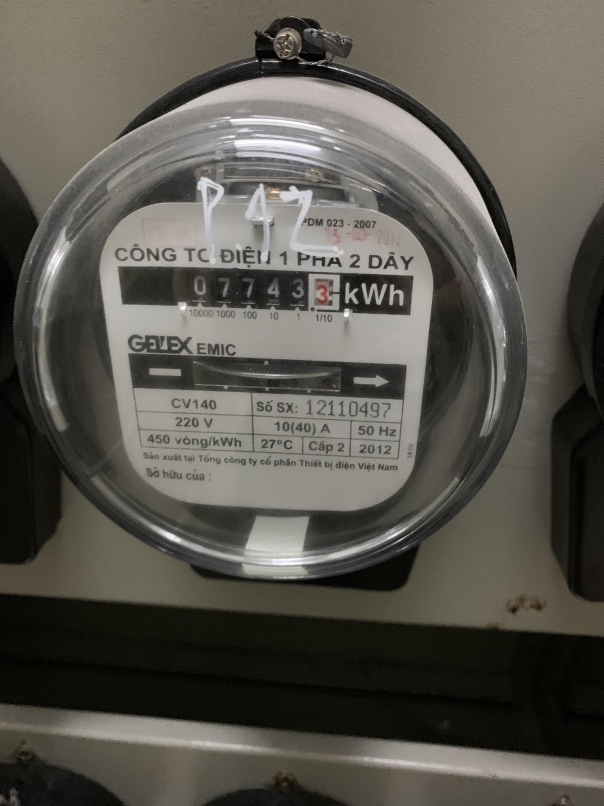counter: (115, 269, 413, 317)
electricity_meter: (17, 114, 525, 584)
